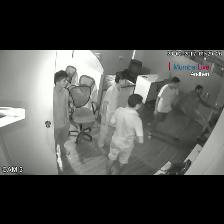person: (106, 94, 143, 174), (98, 72, 126, 154), (148, 77, 180, 136), (182, 85, 217, 132), (54, 71, 70, 155)
